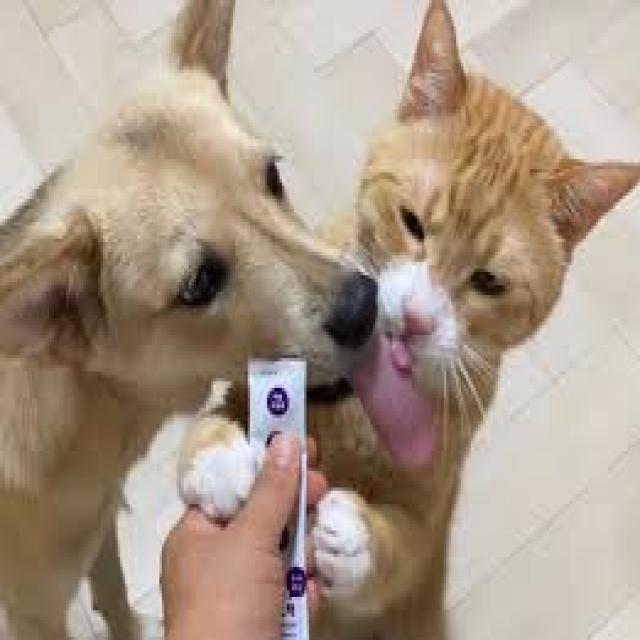cat: (375, 11, 640, 481)
dog: (1, 2, 375, 436)
